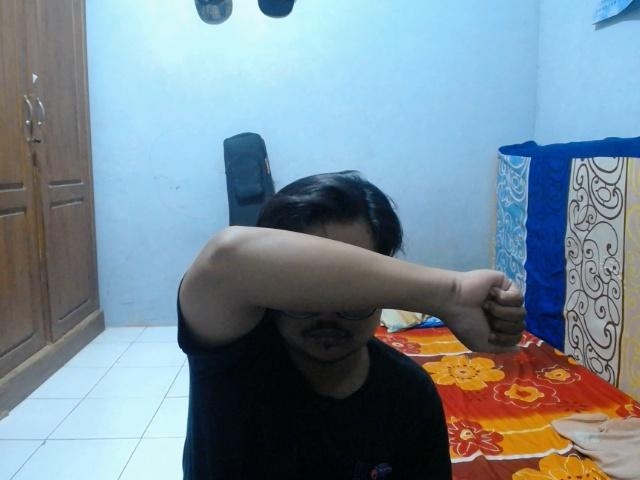Grab: (447, 264, 532, 359)
